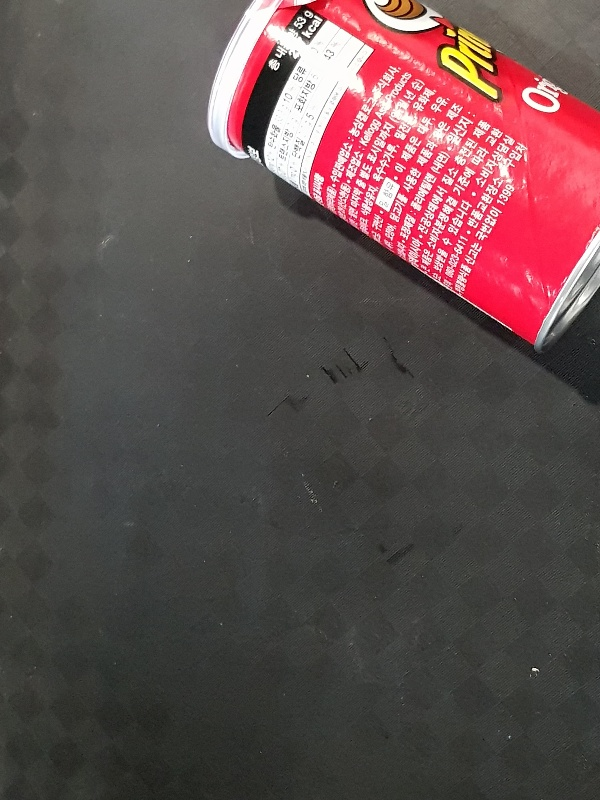Pringles Original: (206, 1, 600, 355)
